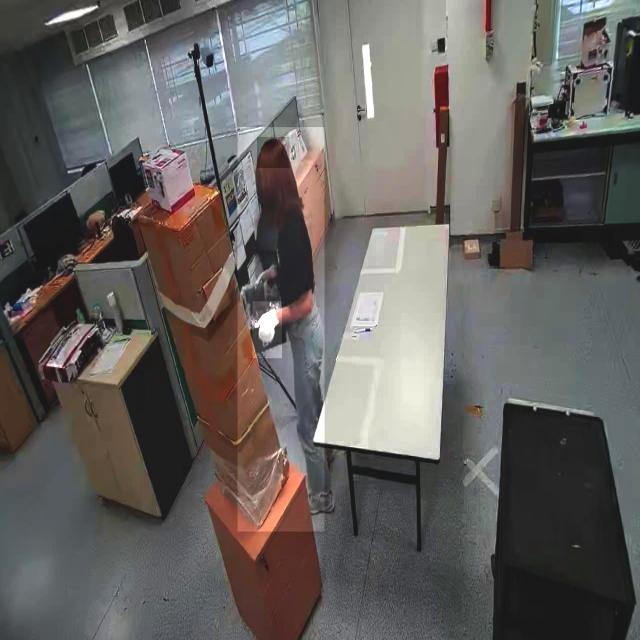hand_glove: (252, 301, 282, 359)
head_nohelmet: (256, 137, 290, 169)
person: (237, 127, 325, 533)
